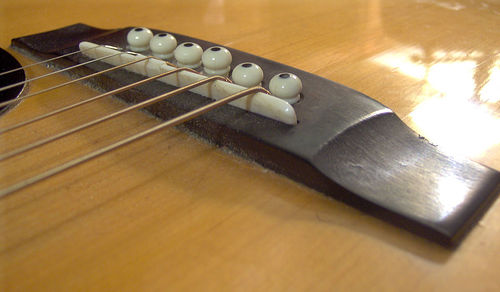guitar: (1, 1, 500, 292)
